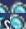mirror: (10, 13, 26, 29), (10, 0, 26, 13), (0, 0, 10, 13)
